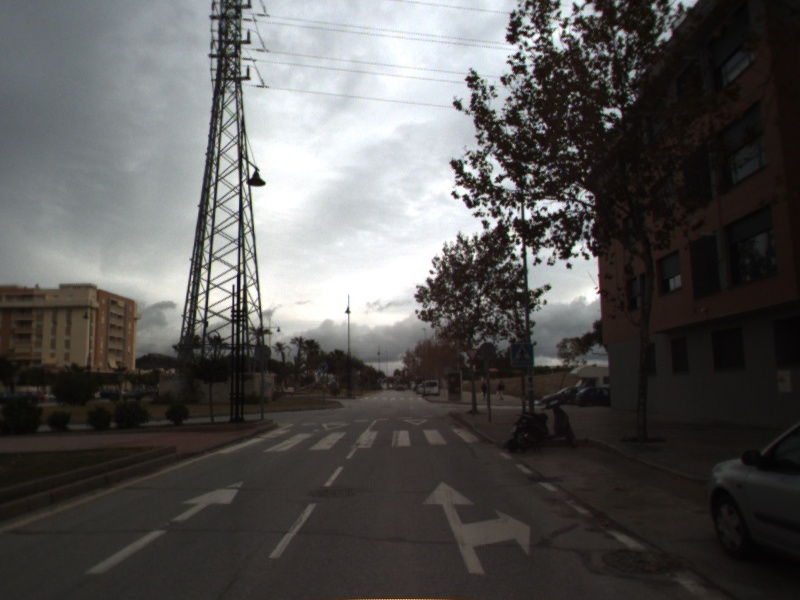STRAIGHT: (82, 478, 246, 576)
STRAIGHT_RIGHT: (420, 479, 533, 576)
